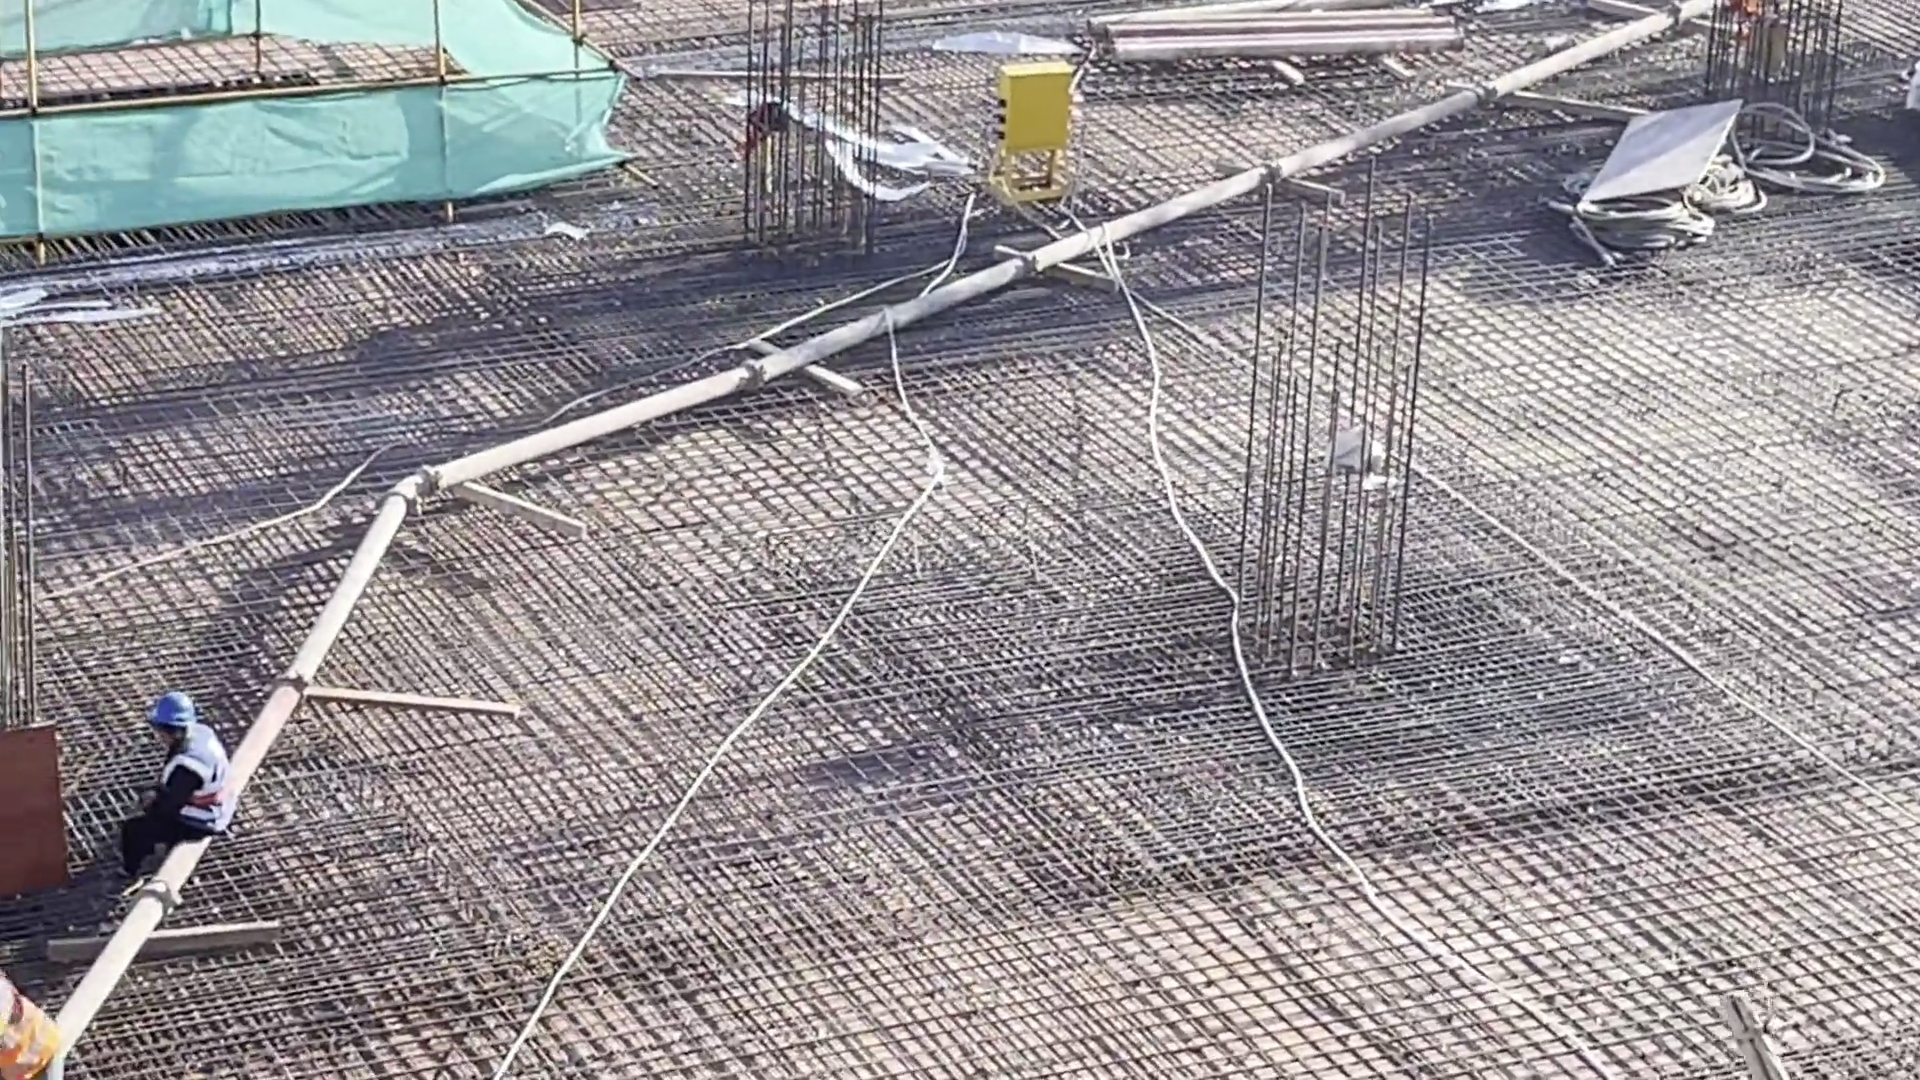ebox: (997, 67, 1072, 149)
helmet: (157, 694, 194, 737)
person: (111, 682, 230, 876)
vest: (162, 738, 235, 840)
